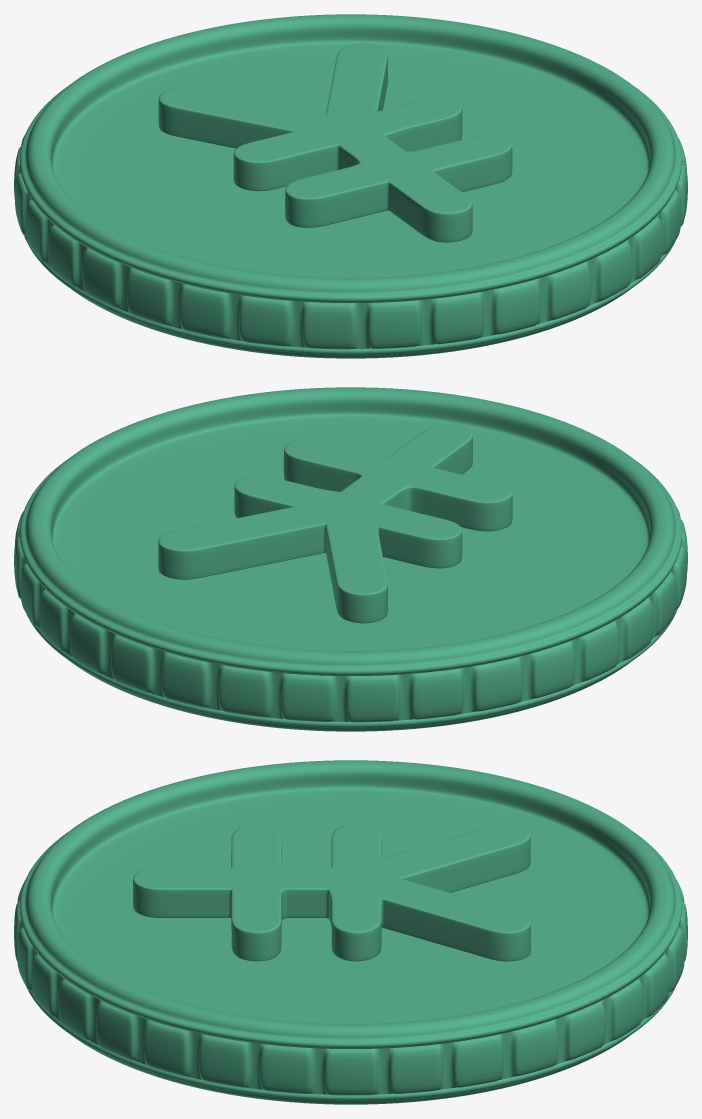
File: coin-animated-3d-icon-230458419596.glb
3 views of the same model, one above another, from view 1: azimuth 30°, elevation 25°; view 2: azimuth 150°, elevation 25°; view 3: azimuth 270°, elevation 25° (orthographic).
Visible parts, largest first — view 1: Coin.010, Yen.001; view 2: Coin.010, Yen.001; view 3: Coin.010, Yen.001.
Part boxes in pixels (<box>): Coin.010: <box>14,14,687,358</box>; Yen.001: <box>158,43,512,242</box>; Coin.010: <box>14,387,687,731</box>; Yen.001: <box>158,424,512,623</box>; Coin.010: <box>14,760,687,1104</box>; Yen.001: <box>133,824,530,961</box>.
Bounding box in the file's own units: 2.06 × 0.3677 × 2.06.
